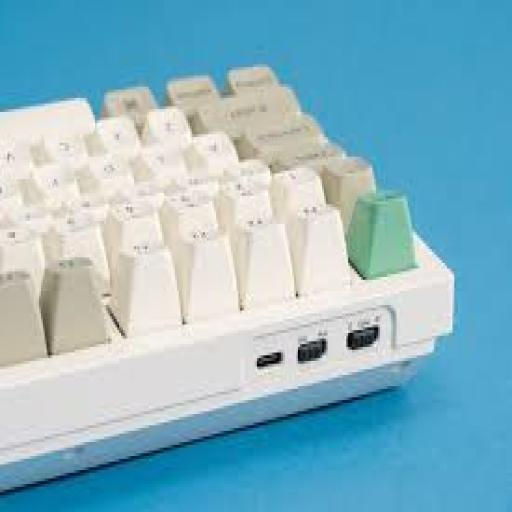keyboard: (0, 65, 454, 492)
